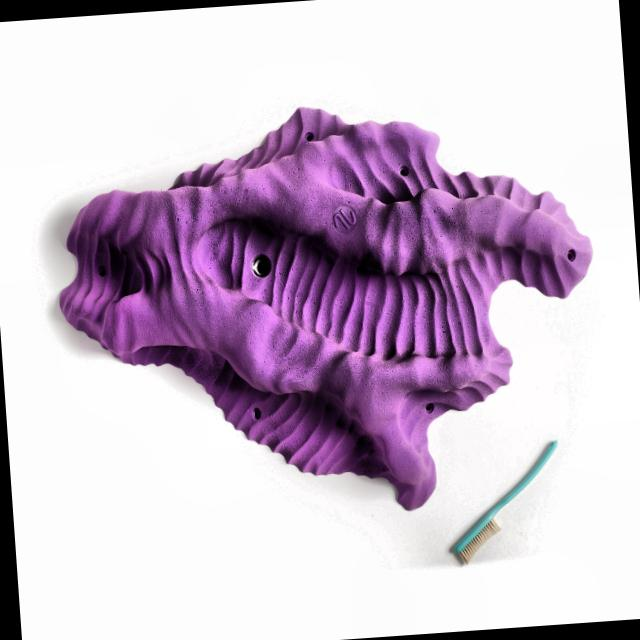Hold: (59, 80, 596, 530)
